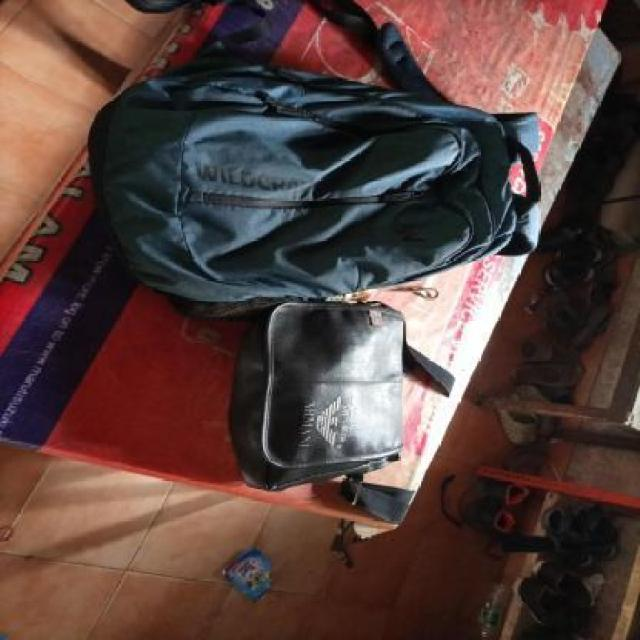backpack: (82, 51, 546, 317), (226, 297, 409, 497)
